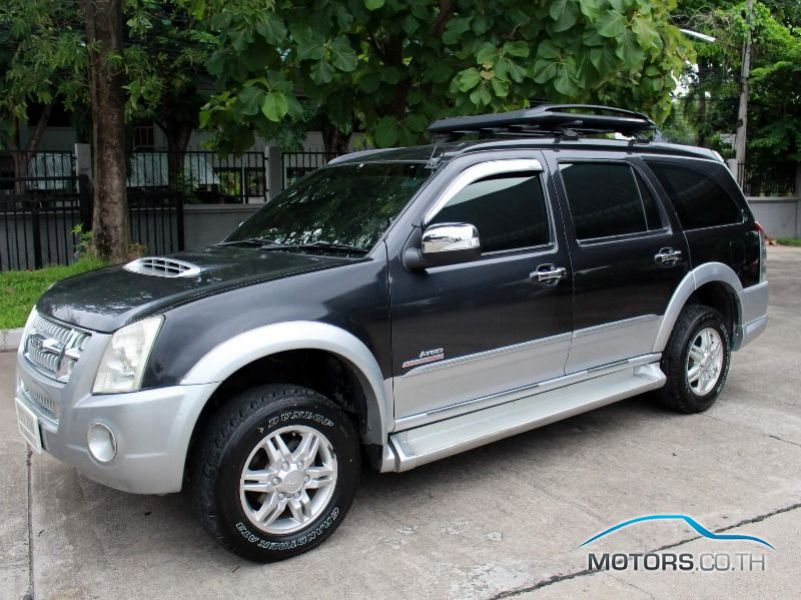pickup: (16, 125, 768, 562)
